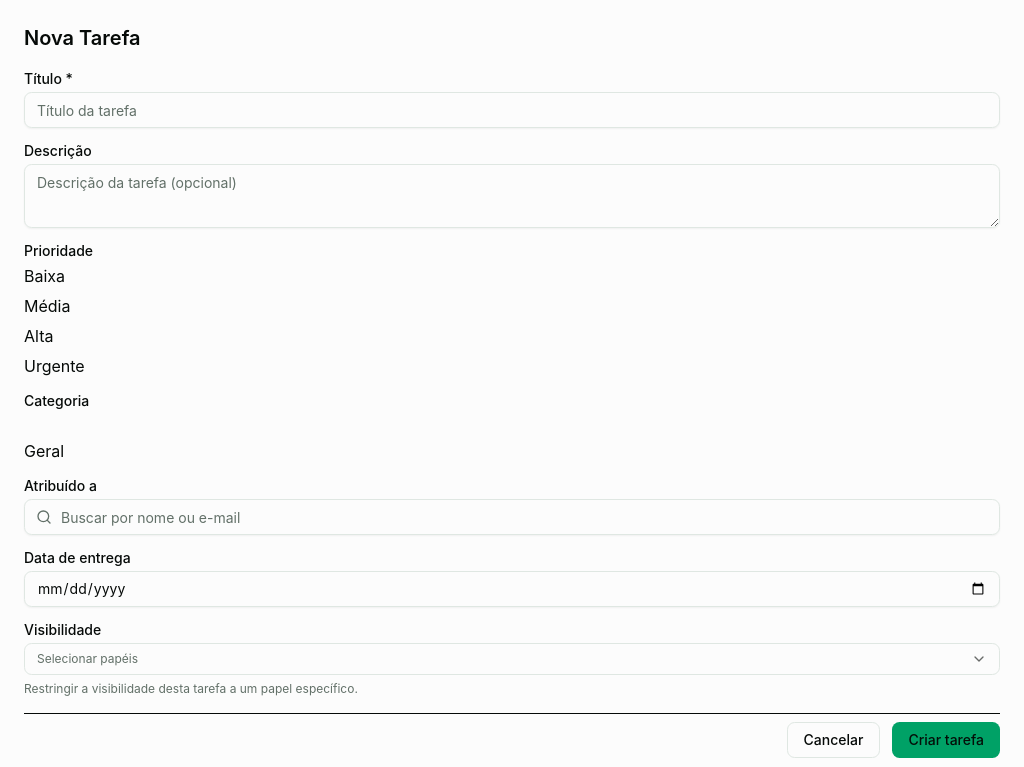
TaskForm › shows validation error when category is not selected
What coordinates should you click on to do the following:
click the button "Criar tarefa"
I would click on:
 (946, 740)
Its box is [892, 722, 1000, 758].
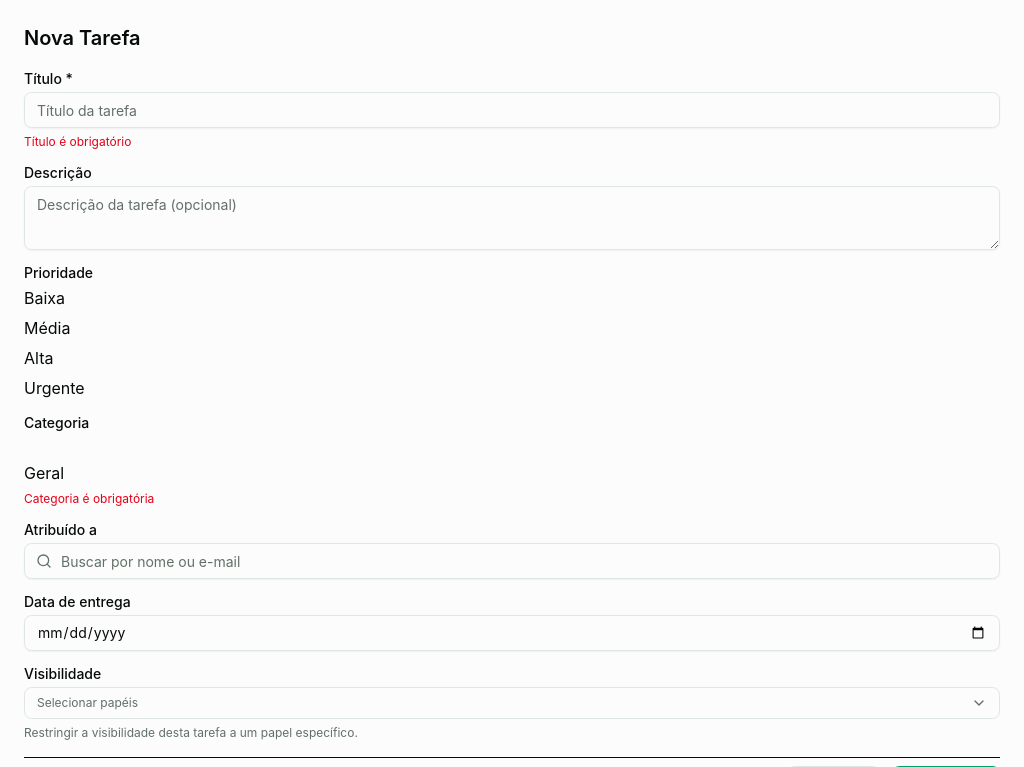
Expected: the text "Categoria é obrigatória" is shown, [24, 491, 154, 506]
